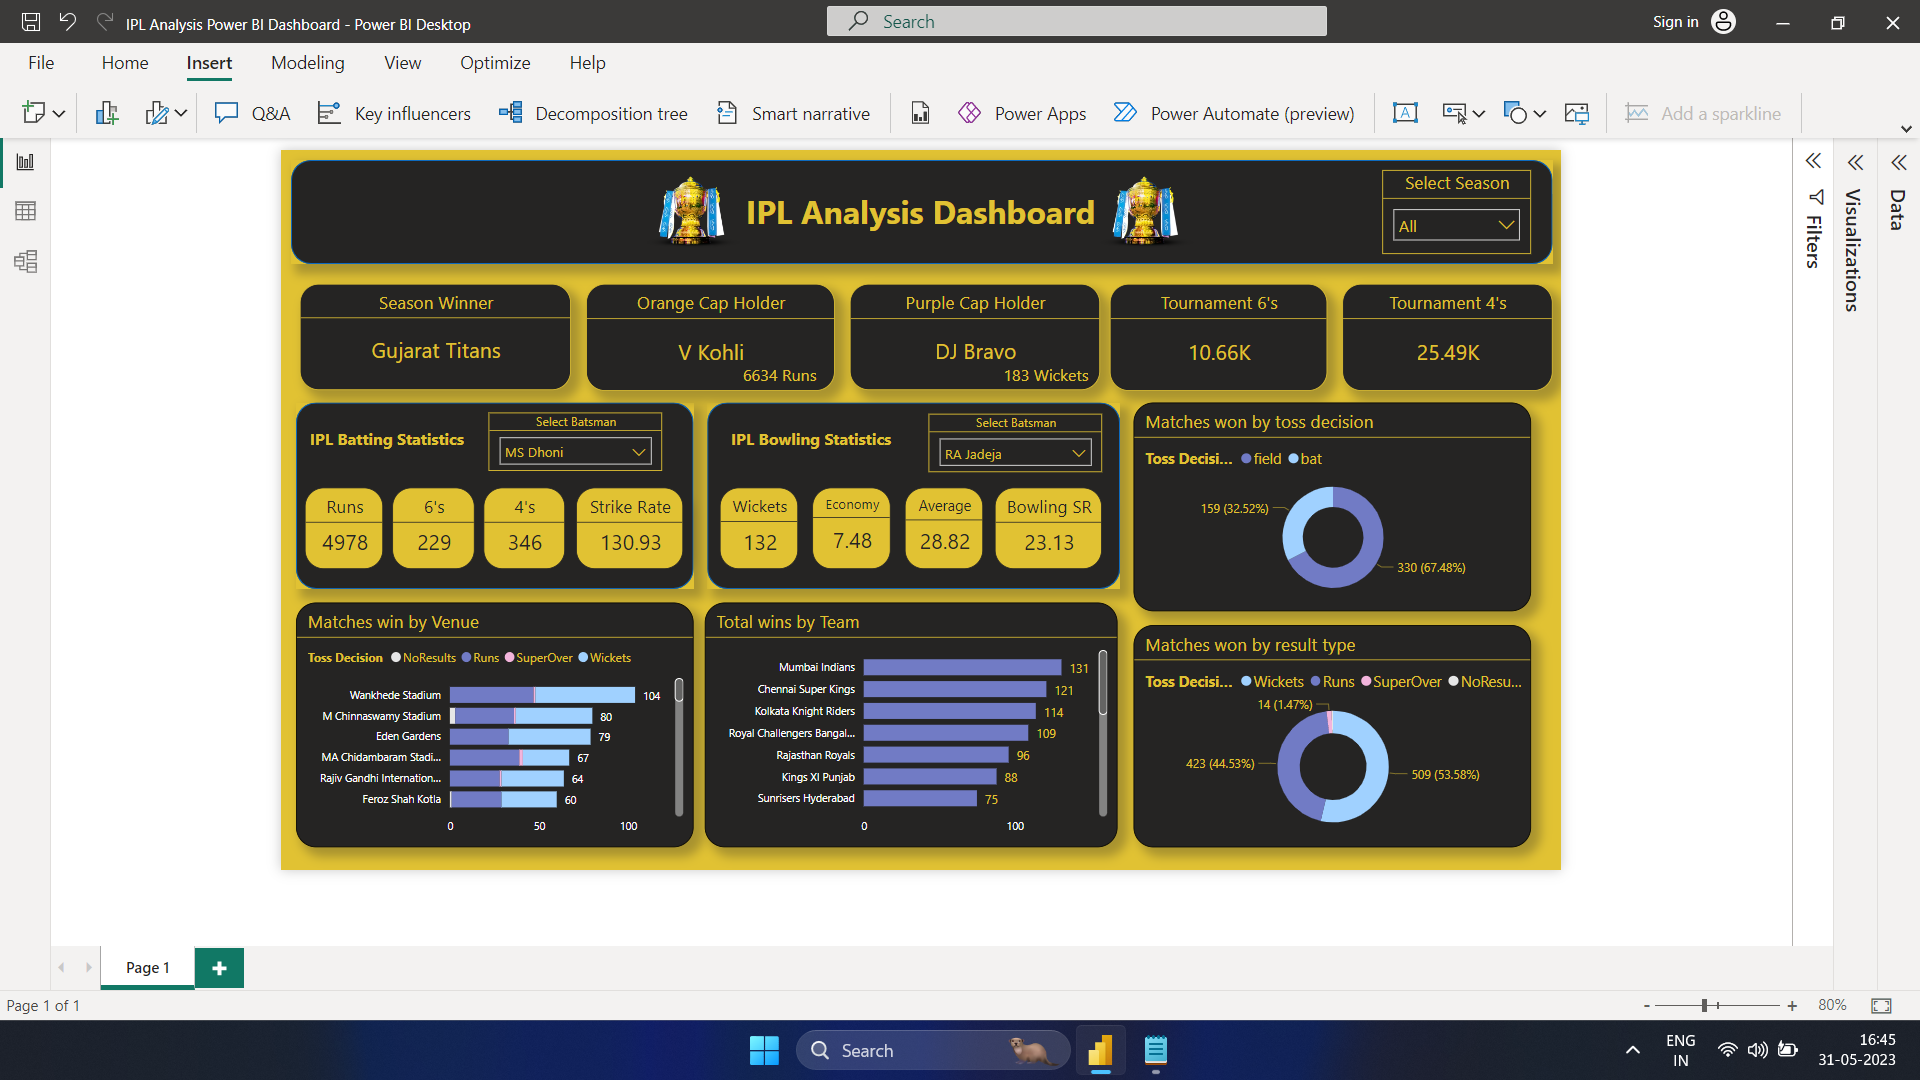

This screenshot's page, from the dashboard's own definition file:
{"tool":"powerbi","page":{"name":"Page 1","canvas":[1280,720],"ordinal":0},"visuals":[{"type":"shape","box":[10,10,1261.2,103.8],"z":0},{"type":"textbox","box":[460,35,368.8,55],"z":1000},{"type":"slicer","title":"Select Season","fields":{"Values":["Calendar.Year"]},"box":[1101.2,20,148.8,83.8],"z":2000},{"type":"card","title":"Season Winner ","fields":{"Values":["ipl_matches_2008_2022.Title winner"]},"box":[18.8,133.8,271.2,106.2],"z":3000},{"type":"card","title":"Orange Cap Holder","fields":{"Values":["Min(ipl_ball_by_ball_2008_2022.batter)"]},"box":[305,133.8,248.8,107.5],"z":4000},{"type":"card","title":"Orange Cap Holder","fields":{"Values":["ipl_ball_by_ball_2008_2022.batter_runs"]},"box":[397.5,207.5,202.5,38.8],"z":5000},{"type":"card","title":"Purple Cap Holder","fields":{"Values":["Min(ipl_ball_by_ball_2008_2022.bowler)"]},"box":[568.8,133.8,250,106.2],"z":6000},{"type":"card","title":"Purple Cap Holder","fields":{"Values":["ipl_ball_by_ball_2008_2022.bowler_wickets"]},"box":[663.8,206.2,202.5,41.2],"z":7000},{"type":"shape","box":[425.7,253,412.5,186.2],"z":8000},{"type":"card","title":"Tournament 6''s","fields":{"Values":["CountNonNull(ipl_ball_by_ball_2008_2022.batsman_run)"]},"box":[828.8,133.8,217.5,107.5],"z":9000},{"type":"card","title":"Tournament 4''s","fields":{"Values":["CountNonNull(ipl_ball_by_ball_2008_2022.batsman_run)"]},"box":[1061.2,133.8,210,107.5],"z":10000},{"type":"shape","box":[15,253,397.5,186.2],"z":11000},{"type":"slicer","title":"Select Batsman","fields":{"Values":["ipl_ball_by_ball_2008_2022.batter"]},"box":[207.5,263,173.8,58.8],"z":12000},{"type":"card","title":"Runs","fields":{"Values":["Sum(ipl_ball_by_ball_2008_2022.batsman_run)"]},"box":[23.8,338,78.8,81.2],"z":13000},{"type":"card","title":"6''s","fields":{"Values":["CountNonNull(ipl_ball_by_ball_2008_2022.batsman_run)"]},"box":[111.2,338,82.5,81.2],"z":14000},{"type":"card","title":"4''s","fields":{"Values":["CountNonNull(ipl_ball_by_ball_2008_2022.batsman_run)"]},"box":[202.5,338,81.2,81.2],"z":15000},{"type":"card","title":"Strike Rate","fields":{"Values":["ipl_ball_by_ball_2008_2022.Strike rate for batsman"]},"box":[295,338,107.5,81.2],"z":16000},{"type":"textbox","box":[23.8,273,178.8,40],"z":17000},{"type":"slicer","title":"Select Batsman","fields":{"Values":["ipl_ball_by_ball_2008_2022.bowler"]},"box":[647,264.2,173.8,58.8],"z":18000},{"type":"card","title":"Wickets","fields":{"Values":["Sum(ipl_ball_by_ball_2008_2022.iswicket_delivery)"]},"box":[438.2,338,78.8,81.2],"z":19000},{"type":"card","title":"Economy","fields":{"Values":["ipl_ball_by_ball_2008_2022.Economy rate of bowler"]},"box":[530.7,338,78.8,81.2],"z":20000},{"type":"card","title":"Average","fields":{"Values":["ipl_ball_by_ball_2008_2022.Average of the bowler"]},"box":[623.2,338,78.8,81.2],"z":21000},{"type":"card","title":"Bowling SR","fields":{"Values":["ipl_ball_by_ball_2008_2022.Bowling SR"]},"box":[713.2,338,107.5,81.2],"z":22000},{"type":"textbox","box":[444.5,273,187.5,41.2],"z":23000},{"type":"donutChart","title":"Matches won by toss decision","fields":{"Y":["ipl_matches_2008_2022.Matches won by toss decision"],"Category":["ipl_matches_2008_2022.toss_decision"]},"box":[852.5,252.5,397.5,208.8],"z":24000},{"type":"donutChart","title":"Matches won by result type","fields":{"Y":["CountNonNull(ipl_matches_2008_2022.id)"],"Category":["ipl_matches_2008_2022.won_by"]},"box":[852.5,475,397.5,222.5],"z":25000},{"type":"barChart","title":"Matches win by Venue","fields":{"Category":["ipl_matches_2008_2022.venue"],"Y":["CountNonNull(ipl_matches_2008_2022.id)"],"Series":["ipl_matches_2008_2022.won_by"]},"box":[15,452.5,397.5,245],"z":26000},{"type":"barChart","title":"Total wins by Team","fields":{"Category":["ipl_matches_2008_2022.winning_team"],"Y":["CountNonNull(ipl_matches_2008_2022.winning_team)"]},"box":[423.8,452.5,412.5,245],"z":27000},{"type":"image","box":[356.2,6.2,112.5,113.8],"z":27001},{"type":"image","box":[810,6.2,112.5,113.8],"z":27002}]}

Visuals, with their boxes on the page's 1280x720 design canvas (x1, y1, x2, y2). These are canvas units, not pixel positions in the 1920x1080 screenshot, which may show the page scaled, cropped or inside an application window:
shape: bbox=[10, 10, 1271, 114]
textbox: bbox=[460, 35, 829, 90]
"Select Season" slicer: bbox=[1101, 20, 1250, 104]
"Season Winner " card: bbox=[19, 134, 290, 240]
"Orange Cap Holder" card: bbox=[305, 134, 554, 241]
"Orange Cap Holder" card: bbox=[398, 208, 600, 246]
"Purple Cap Holder" card: bbox=[569, 134, 819, 240]
"Purple Cap Holder" card: bbox=[664, 206, 866, 247]
shape: bbox=[426, 253, 838, 439]
"Tournament 6''s" card: bbox=[829, 134, 1046, 241]
"Tournament 4''s" card: bbox=[1061, 134, 1271, 241]
shape: bbox=[15, 253, 412, 439]
"Select Batsman" slicer: bbox=[208, 263, 381, 322]
"Runs" card: bbox=[24, 338, 103, 419]
"6''s" card: bbox=[111, 338, 194, 419]
"4''s" card: bbox=[202, 338, 284, 419]
"Strike Rate" card: bbox=[295, 338, 402, 419]
textbox: bbox=[24, 273, 203, 313]
"Select Batsman" slicer: bbox=[647, 264, 821, 323]
"Wickets" card: bbox=[438, 338, 517, 419]
"Economy" card: bbox=[531, 338, 610, 419]
"Average" card: bbox=[623, 338, 702, 419]
"Bowling SR" card: bbox=[713, 338, 821, 419]
textbox: bbox=[444, 273, 632, 314]
"Matches won by toss decision" donutChart: bbox=[852, 252, 1250, 461]
"Matches won by result type" donutChart: bbox=[852, 475, 1250, 698]
"Matches win by Venue" barChart: bbox=[15, 452, 412, 698]
"Total wins by Team" barChart: bbox=[424, 452, 836, 698]
image: bbox=[356, 6, 469, 120]
image: bbox=[810, 6, 922, 120]
